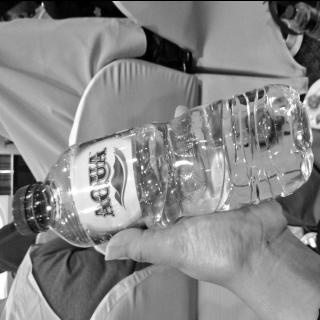plastic_bottles: (13, 84, 312, 248)
